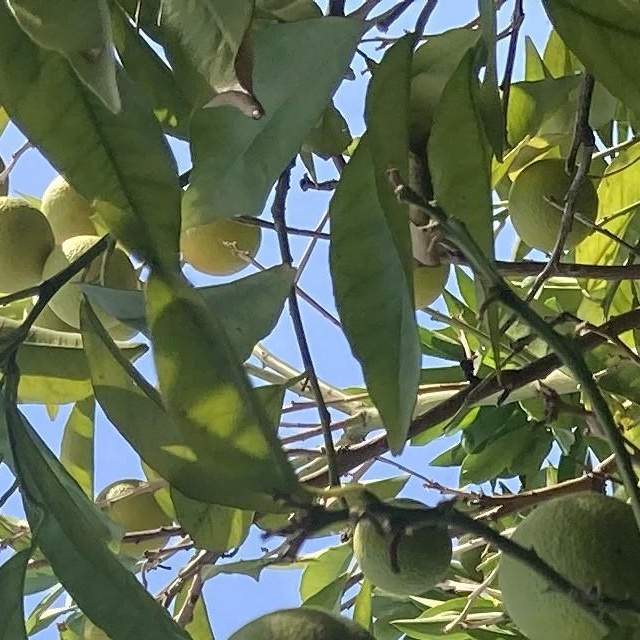orange: (494, 485, 640, 640), (181, 596, 417, 640), (50, 232, 144, 334), (174, 175, 262, 277), (503, 153, 595, 245), (41, 164, 127, 246), (0, 186, 55, 298), (628, 240, 640, 318)
